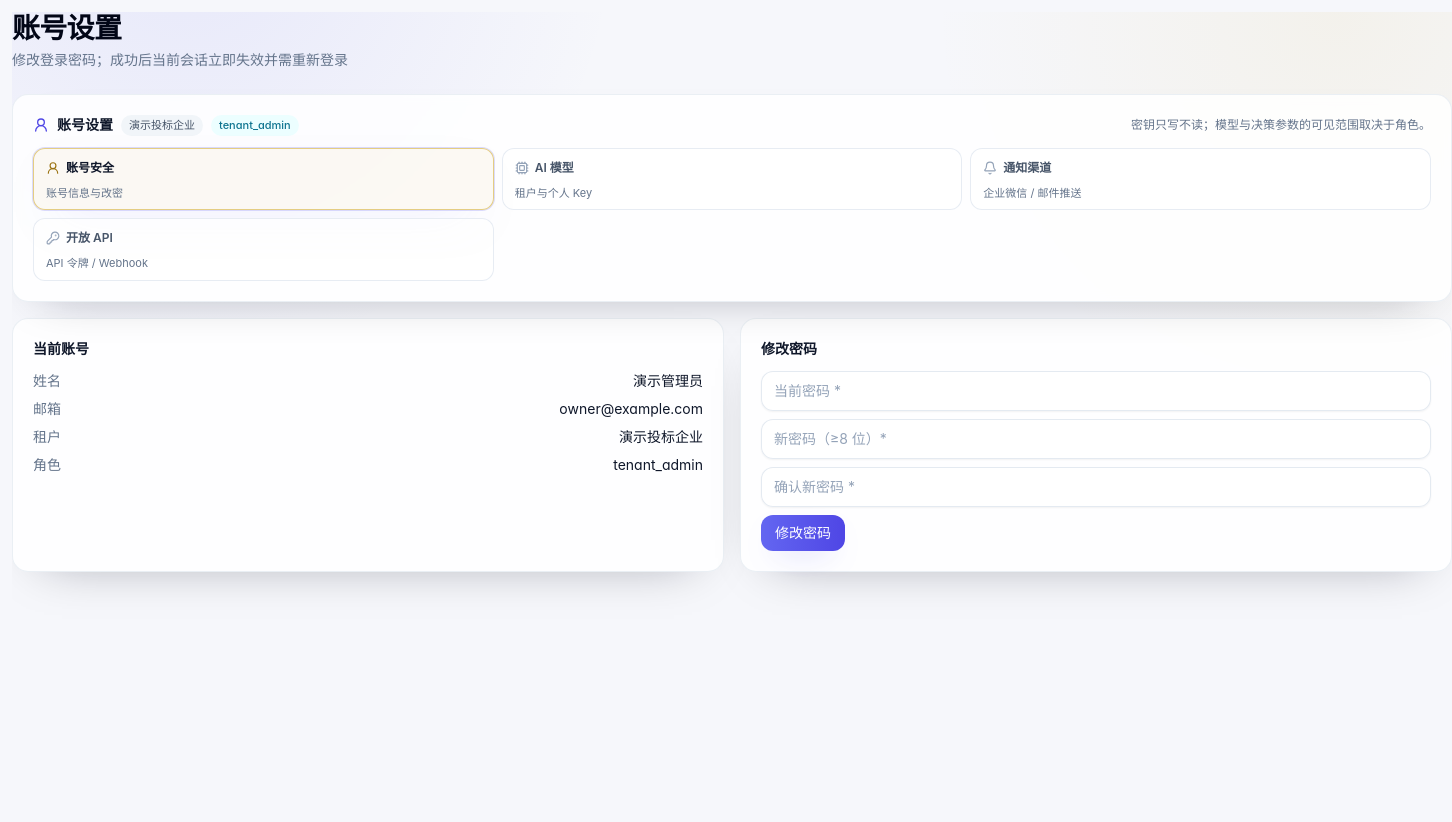
Scenario: SettingsPage 模型配置错误消息归属 › 修改密码校验错误只出现在修改密码卡片（不串到模型页签）
Expected: the heading "修改密码" is shown, [761,340,817,356]
Type "old" into the password field with placeholder "当前密码 *" at coordinates (1096, 390), box [761,370,1431,410]
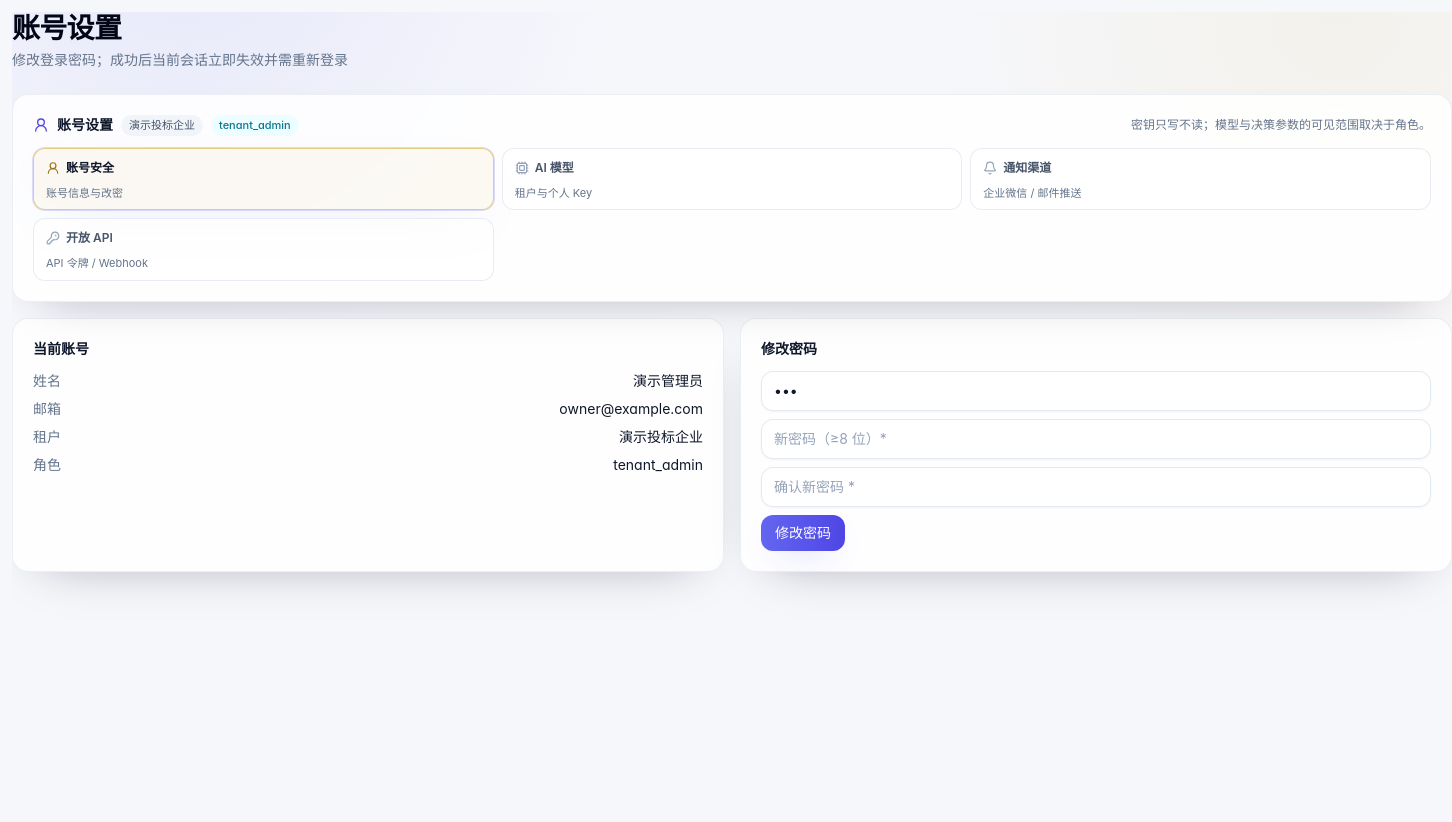
Type "NewPassw0rd!" into the password field with placeholder "新密码（≥8 位）*" at coordinates (1096, 438), box [761,418,1431,458]
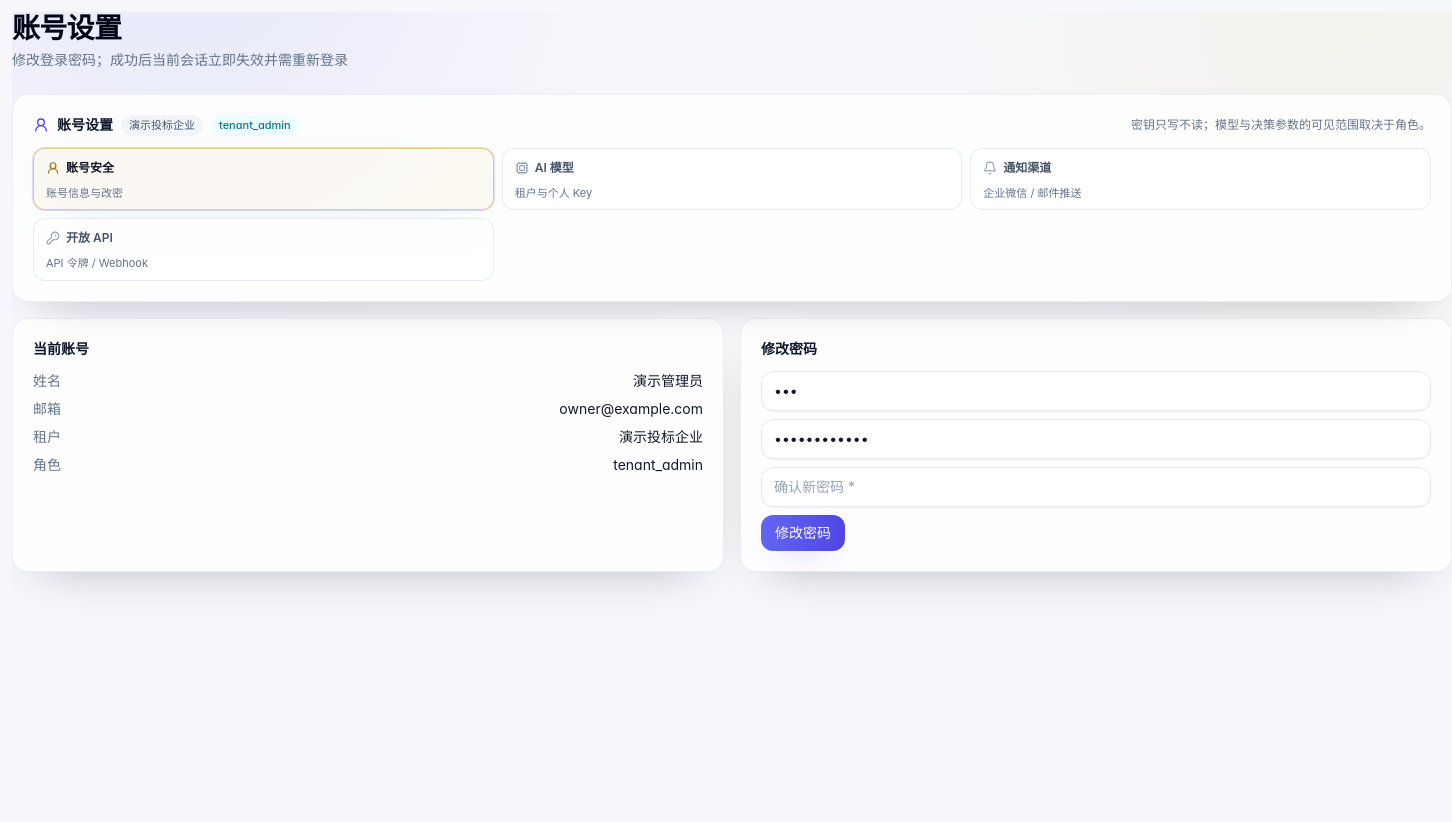
Type "MismatchPass!" into the password field with placeholder "确认新密码 *" at coordinates (1096, 486), box [761,466,1431,506]
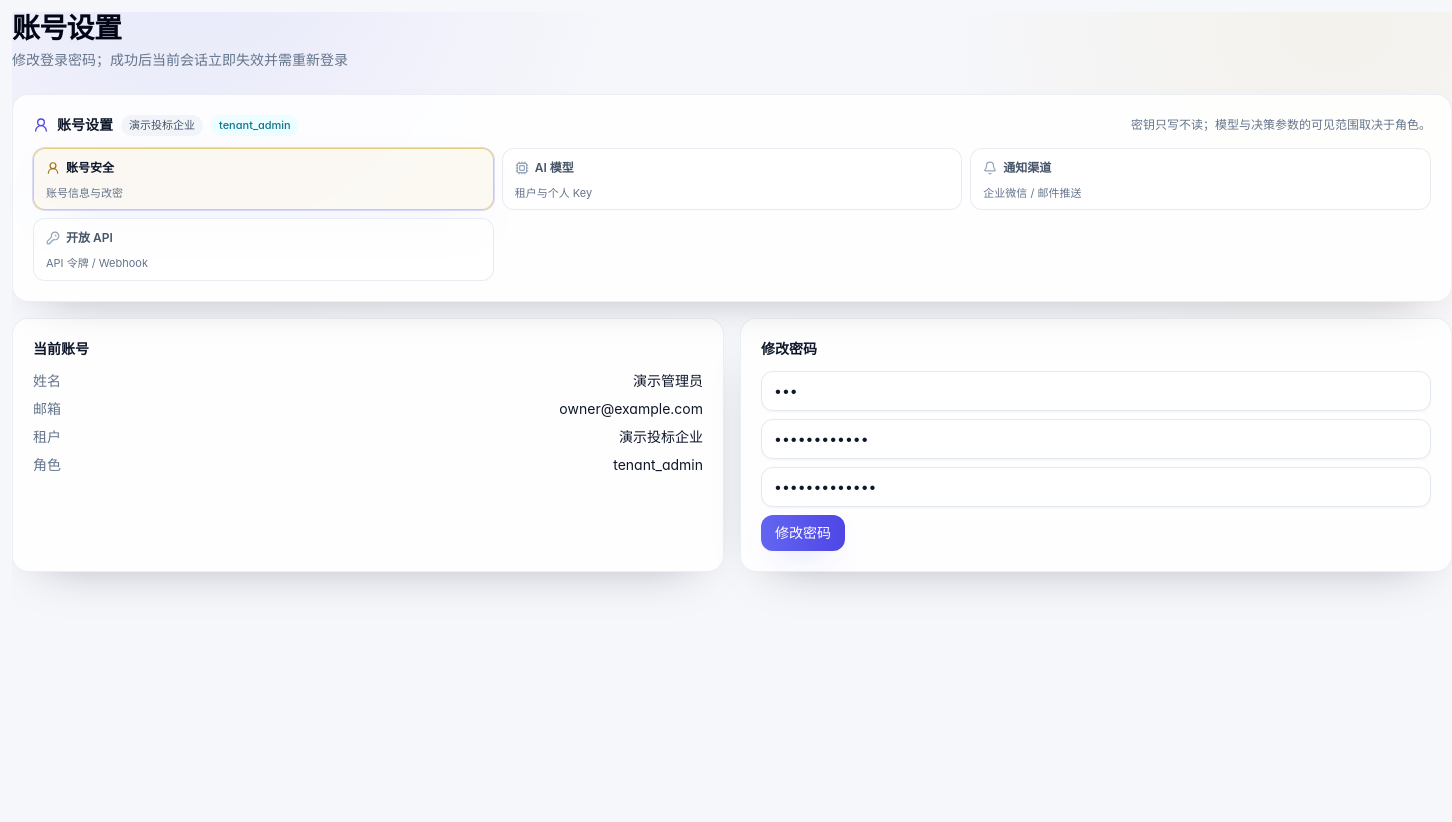
Click the button "修改密码" at coordinates (803, 532), box [761,514,845,550]
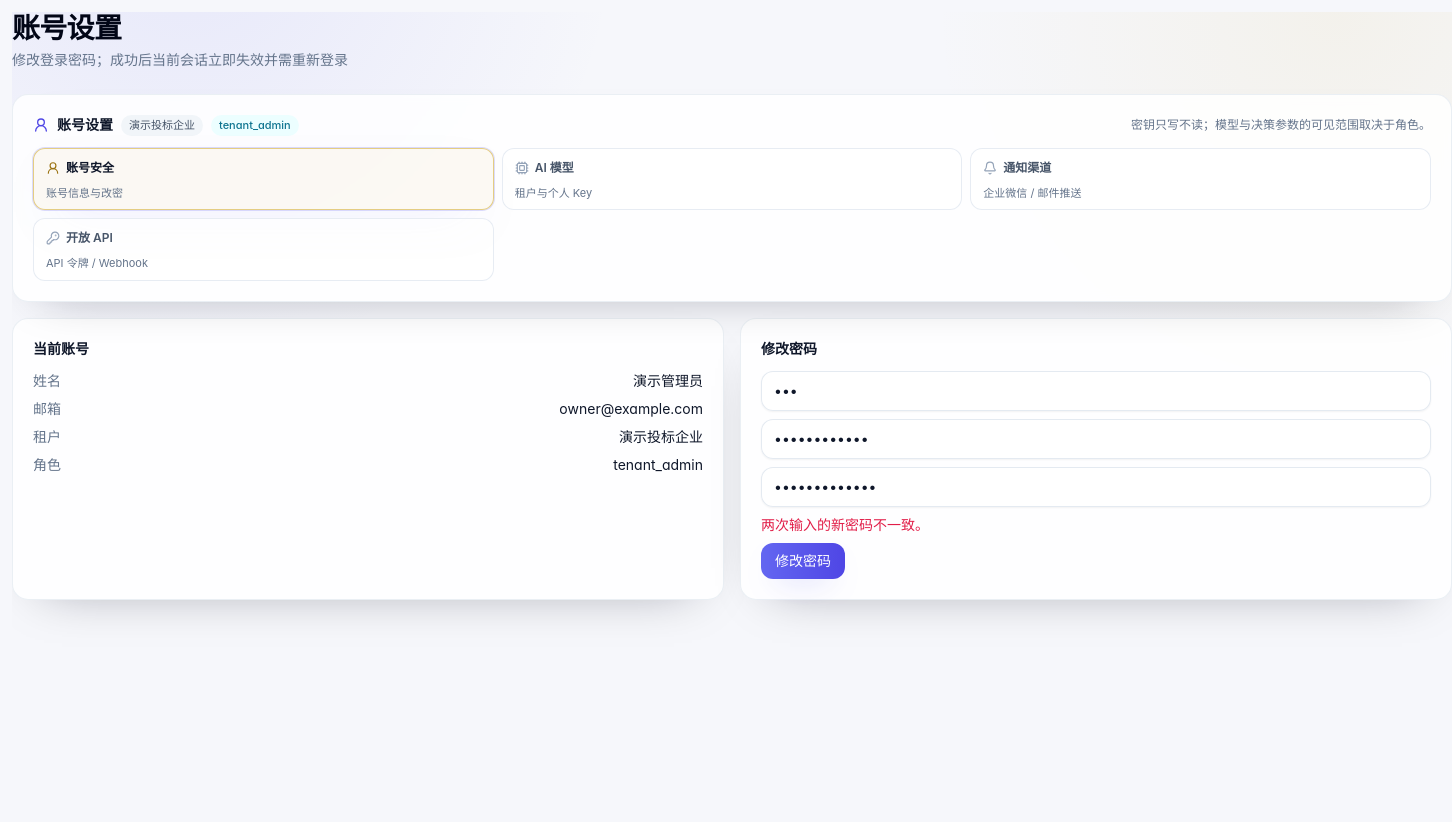
Expected: the text "两次输入的新密码不一致。" is shown, [761,516,929,532]
